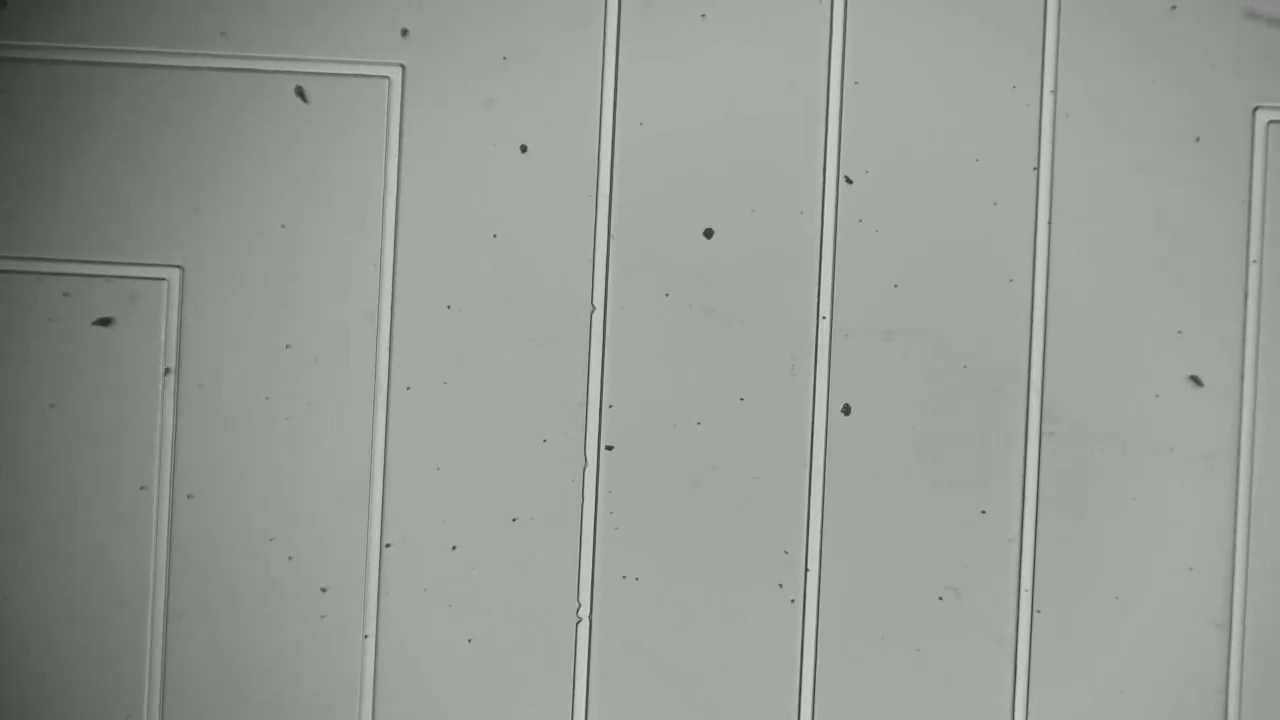edge_bite: (563, 590, 604, 629), (577, 446, 609, 476), (586, 294, 612, 318)
